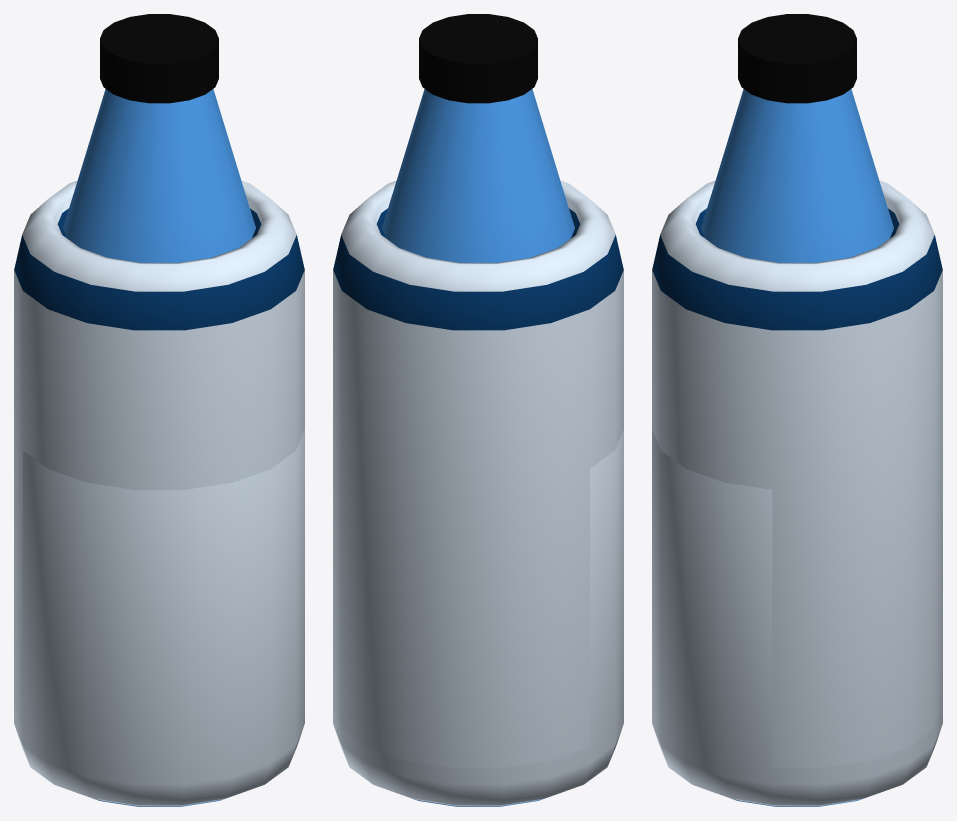
Rendered from Soda.fbx.
3 views of the same model, side by side, from view 1: azimuth 30°, elevation 25°; view 2: azimuth 150°, elevation 25°; view 3: azimuth 270°, elevation 25° (orthographic).
Parts seen in each view (by area): view 1: Soda4, Soda1, Soda3; view 2: Soda1, Soda3, Soda4; view 3: Soda1, Soda4, Soda3.
Boxes of the visible parts, x1=… form: Soda4: x1=14, y1=429, x2=304, y2=806; Soda1: x1=14, y1=180, x2=304, y2=727; Soda3: x1=63, y1=14, x2=255, y2=806; Soda1: x1=333, y1=180, x2=623, y2=767; Soda3: x1=382, y1=14, x2=574, y2=806; Soda4: x1=333, y1=429, x2=623, y2=806; Soda1: x1=652, y1=180, x2=942, y2=767; Soda4: x1=652, y1=429, x2=942, y2=806; Soda3: x1=701, y1=14, x2=893, y2=806.
Size of the model in its own units: 12.88 by 35.68 by 13.08.
